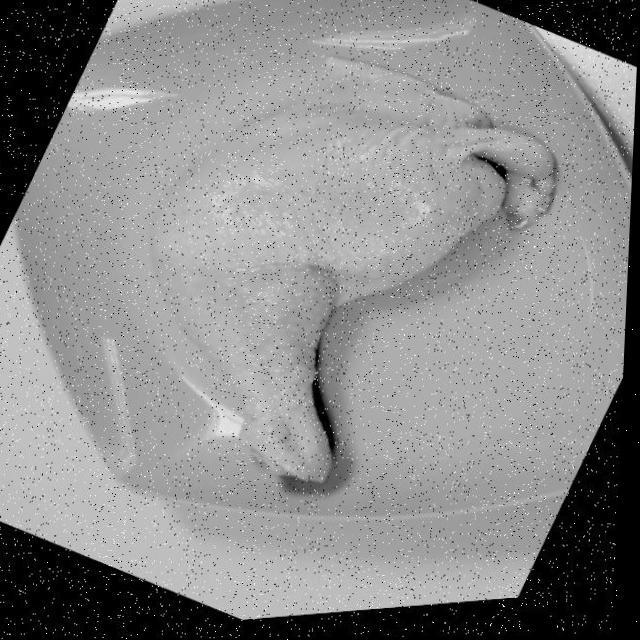quater: (138, 81, 561, 506)
